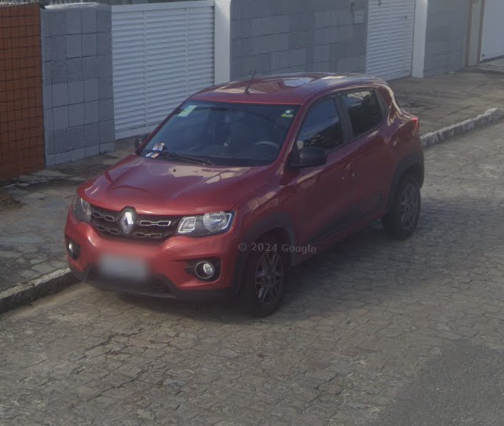car: (59, 65, 427, 319)
